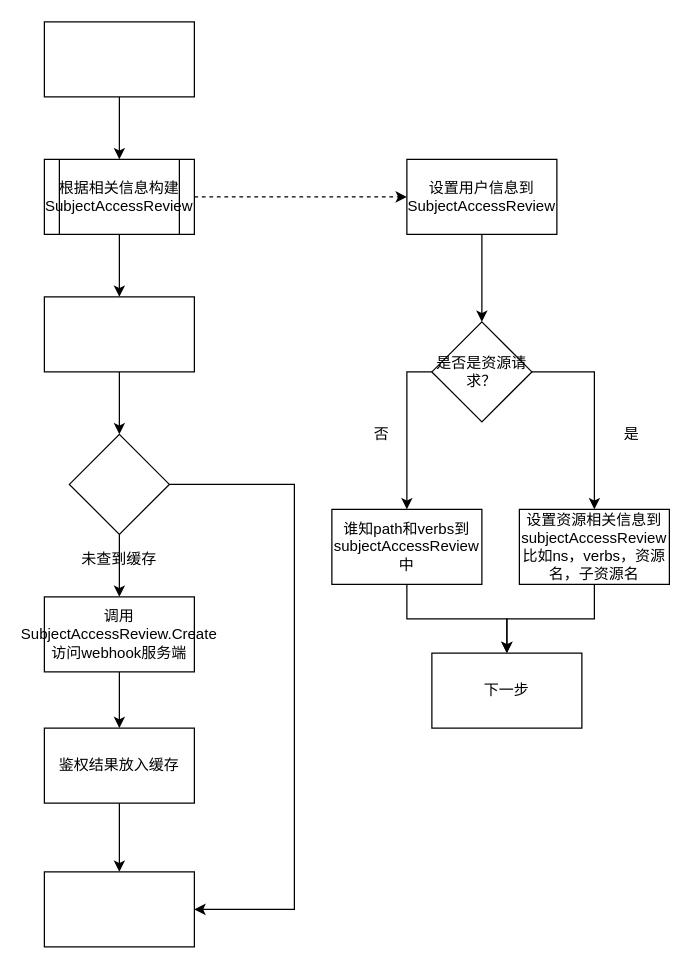
This 691x969 diagram has some shape labels left out. The shapes that lost their labels are listed below. From the top down, each one's centre as x and y in pixels, then its label:
pixel 118 59: 请求进入webhook鉴权Authorize接口
pixel 118 334: 序列化为json
pixel 118 483: 查找缓存 （key为序列化出的json）
pixel 118 909: 返回鉴权结果
